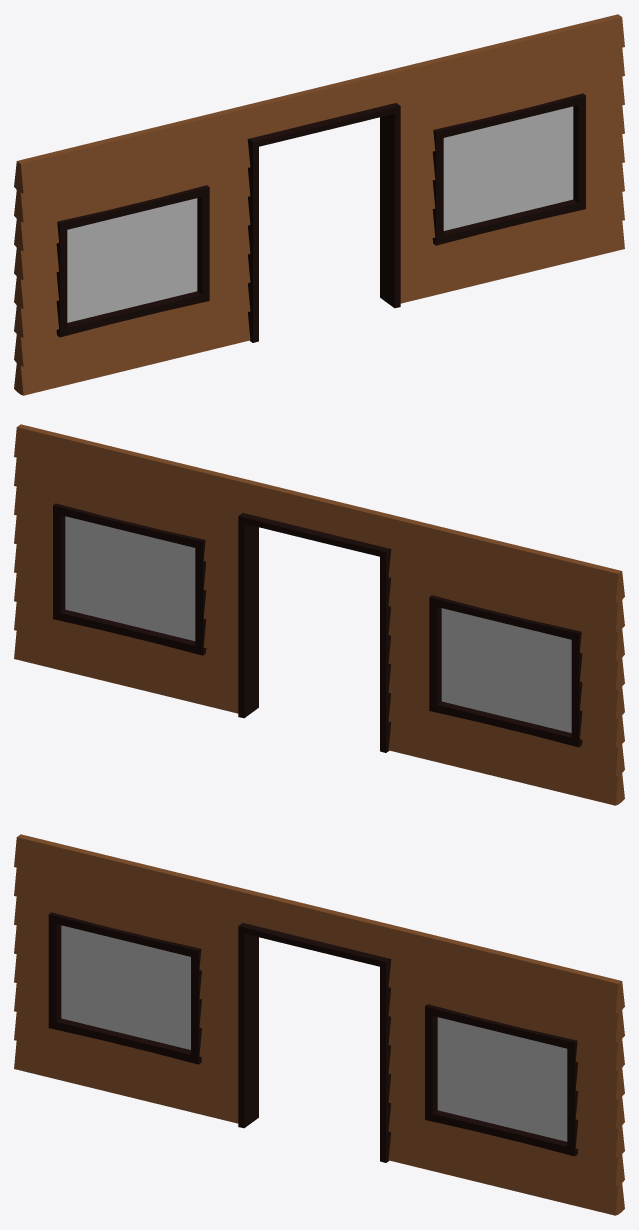
The model's file is ww_saloon_door_b.glb.
3 renders of one model, top to bottom at view 1: azimuth 30°, elevation 25°; view 2: azimuth 150°, elevation 25°; view 3: azimuth 330°, elevation 25°, orthographic.
Visible parts, largest first — view 1: Saloon_Door_B; view 2: Saloon_Door_B; view 3: Saloon_Door_B.
Boxes of the visible parts, left/top/right/bottom form: Saloon_Door_B: left=14, top=14, right=624, bottom=395; Saloon_Door_B: left=14, top=424, right=624, bottom=805; Saloon_Door_B: left=14, top=834, right=624, bottom=1215.
Bounding box in the file's own units: 9.6 × 3.52 × 0.3996.
